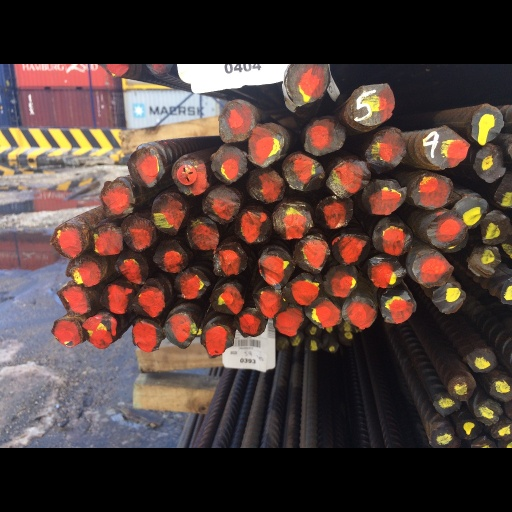dipstick: (343, 83, 396, 126), (421, 125, 470, 170), (362, 127, 408, 172), (284, 64, 330, 107), (247, 120, 286, 168), (426, 210, 468, 253), (283, 152, 325, 194), (326, 158, 369, 199), (371, 214, 412, 257), (271, 200, 315, 240), (217, 99, 255, 145), (302, 117, 345, 156), (365, 178, 408, 217), (410, 173, 453, 211), (202, 185, 241, 226), (255, 245, 293, 287), (292, 233, 330, 275), (412, 250, 454, 288), (128, 146, 165, 189), (210, 143, 248, 184), (243, 167, 285, 204), (314, 193, 356, 230), (65, 252, 108, 288), (51, 220, 90, 259), (170, 157, 209, 196), (150, 194, 186, 236), (331, 230, 371, 267), (234, 207, 272, 245), (452, 193, 490, 231), (471, 144, 507, 184), (100, 179, 136, 218), (470, 102, 503, 144), (183, 215, 221, 250), (113, 250, 149, 286), (368, 257, 407, 290), (209, 282, 245, 317), (212, 242, 248, 277), (165, 312, 198, 350), (304, 296, 342, 329), (122, 214, 156, 250), (380, 290, 414, 326), (98, 282, 135, 314), (83, 314, 117, 348), (153, 240, 188, 273), (200, 323, 233, 358), (430, 282, 466, 314), (342, 297, 377, 329), (467, 247, 502, 279), (57, 286, 93, 317), (173, 269, 209, 300), (130, 319, 163, 352), (252, 286, 285, 319), (286, 276, 320, 308), (323, 267, 358, 298), (480, 210, 510, 246), (92, 223, 124, 256), (273, 303, 303, 338), (136, 282, 165, 317), (51, 317, 84, 347), (236, 307, 266, 338), (466, 346, 497, 374), (447, 373, 475, 401), (474, 399, 503, 426), (431, 392, 461, 417), (489, 376, 512, 403), (428, 425, 454, 447), (455, 417, 480, 439), (491, 420, 512, 441)
